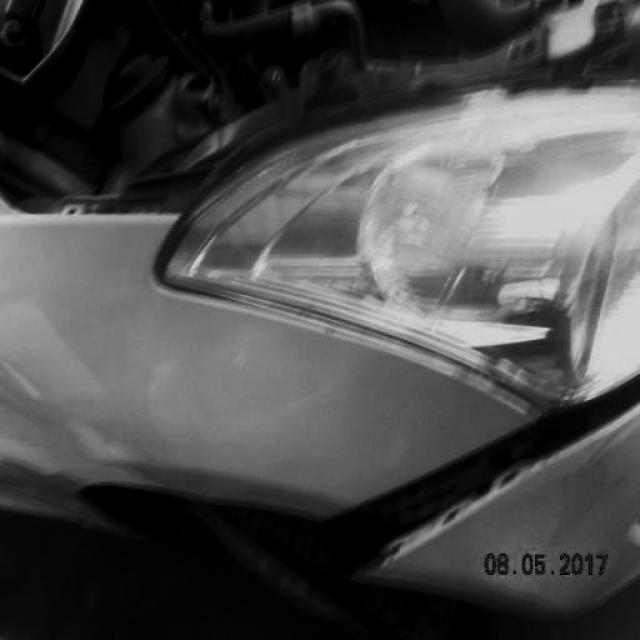car damage: (323, 370, 640, 579)
